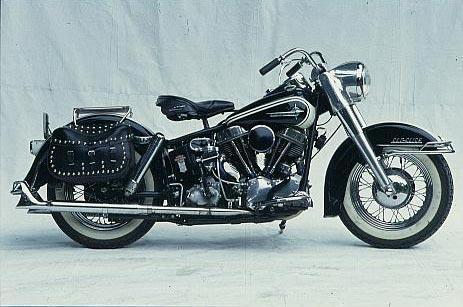motorcycle: (4, 35, 463, 260)
